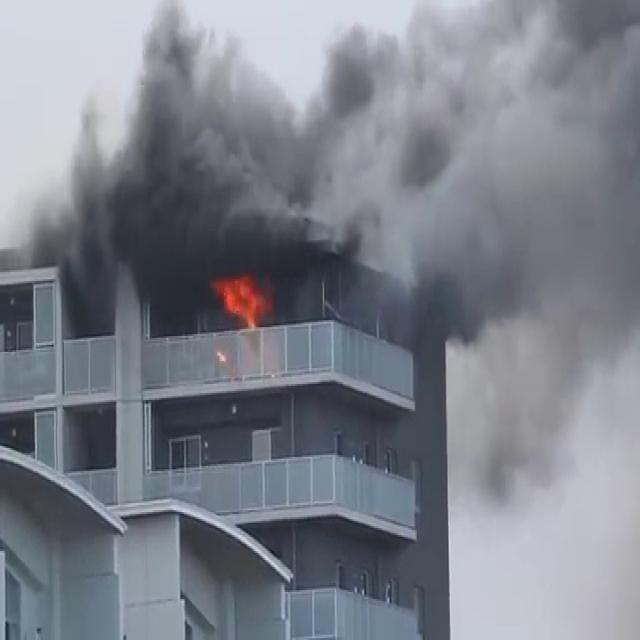Fire: (209, 265, 275, 329)
Smoke: (21, 0, 639, 350)
